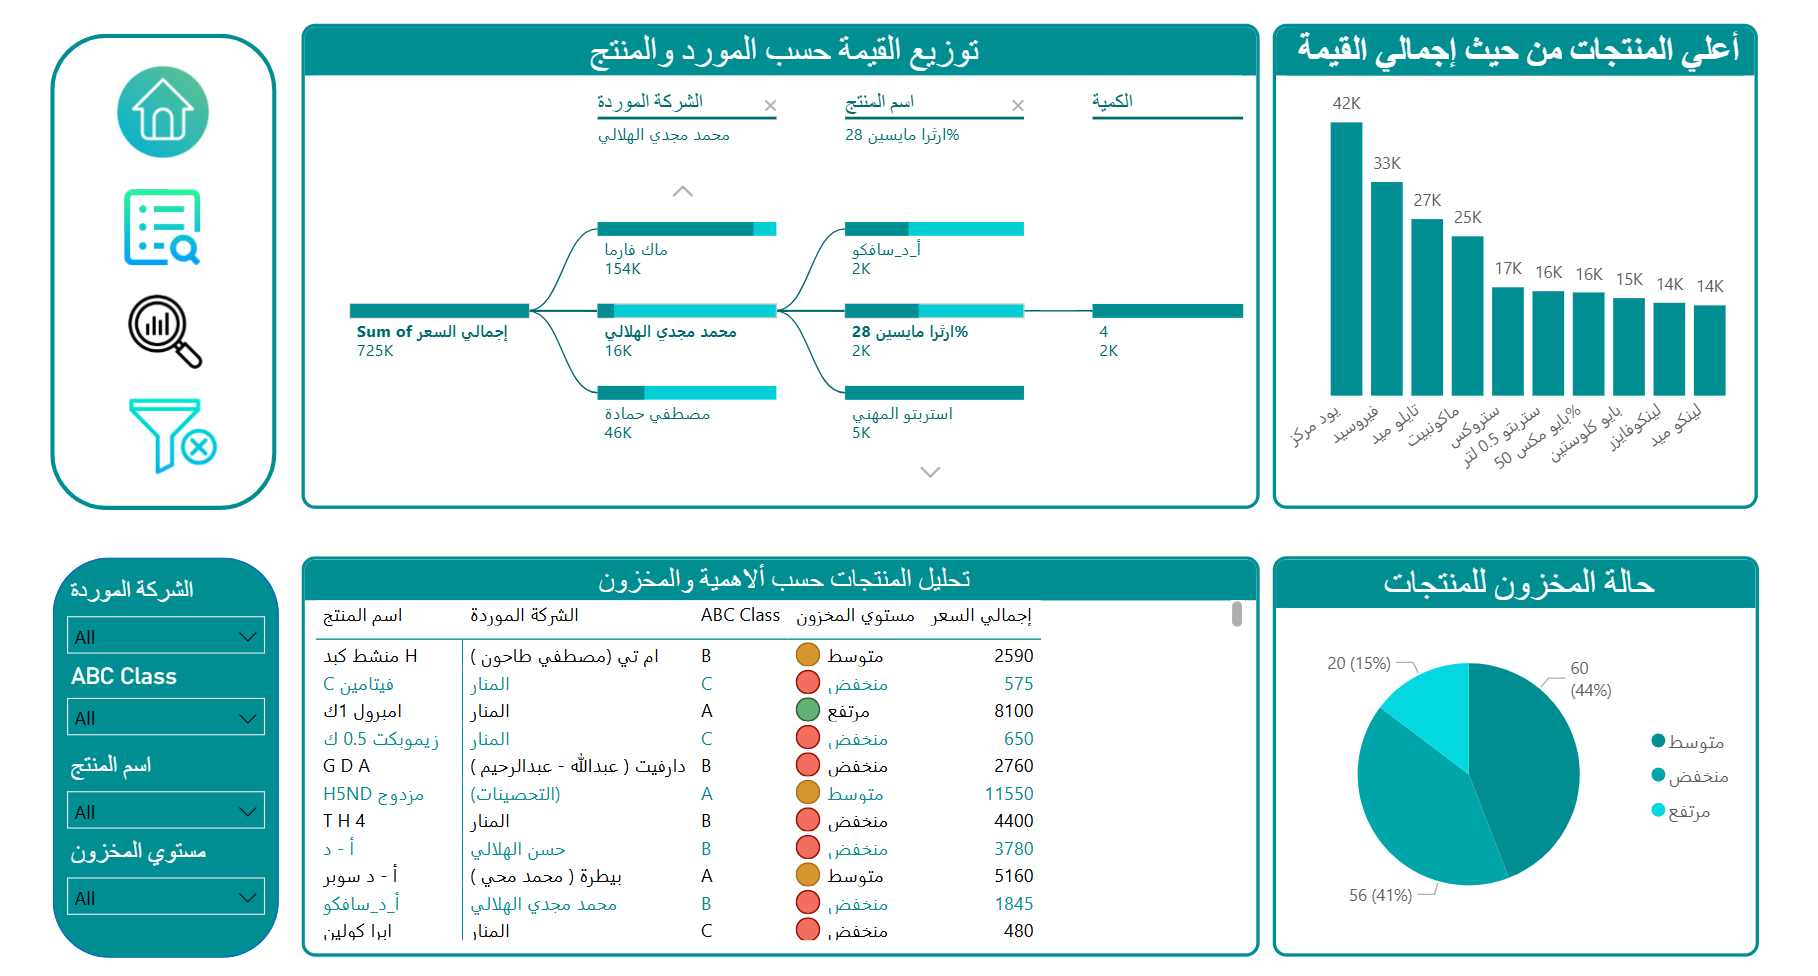

The page's visual inventory and layout, read from the dashboard file:
{"tool":"powerbi","page":{"name":"Analysis","canvas":[1280,720],"ordinal":2},"visuals":[{"type":"pivotTable","title":"تحليل المنتجات حسب ألاهمية والمخزون","fields":{"Values":["Min(المخزون.الشركة الموردة )","Min(المخزون.ABC Class Column)","Min(المخزون.مستوي المخزون)","Sum(المخزون.إجمالي السعر)"],"Rows":["المخزون.اسم المنتج"]},"box":[202.1,404.3,696.7,291.1],"z":0},{"type":"pieChart","title":"حالة المخزون للمنتجات","fields":{"Y":["CountNonNull(المخزون.مستوي المخزون)"],"Category":["المخزون.مستوي المخزون"]},"box":[908.1,404.3,353.3,291.1],"z":1000},{"type":"shape","box":[18.9,24.3,164.4,346.3],"z":2000},{"type":"actionButton","box":[58.1,40.5,86.5,81.1],"z":3000},{"type":"actionButton","box":[67.6,133.8,66.2,63.5],"z":4000},{"type":"actionButton","box":[68.9,283.8,70.3,64.9],"z":5000},{"type":"columnChart","title":"أعلي المنتجات من حيث إجمالي القيمة","fields":{"Category":["المخزون.اسم المنتج"],"Y":["Sum(المخزون.إجمالي السعر)"]},"box":[908.3,17.5,353.1,353.1],"z":12000},{"type":"decompositionTreeVisual","title":"توزيع القيمة حسب المورد والمنتج","fields":{"Analyze":["Sum(المخزون.إجمالي السعر)"],"ExplainBy":["المخزون.الشركة الموردة ","المخزون.اسم المنتج","المخزون.الكمية"]},"box":[202.1,17.5,696.7,353.1],"z":13000},{"type":"actionButton","box":[67.6,208.1,71.6,66.2],"z":14000}]}

Visuals, with their boxes on the page's 1280x720 design canvas (x1, y1, x2, y2). These are canvas units, not pixel positions in the 1818x976 screenshot, which may show the page scaled, cropped or inside an application window:
"تحليل المنتجات حسب ألاهمية والمخزون" pivotTable: 202,404,899,695
"حالة المخزون للمنتجات" pieChart: 908,404,1261,695
shape: 19,24,183,371
actionButton: 58,40,145,122
actionButton: 68,134,134,197
actionButton: 69,284,139,349
"أعلي المنتجات من حيث إجمالي القيمة" columnChart: 908,18,1261,371
"توزيع القيمة حسب المورد والمنتج" decompositionTreeVisual: 202,18,899,371
actionButton: 68,208,139,274
